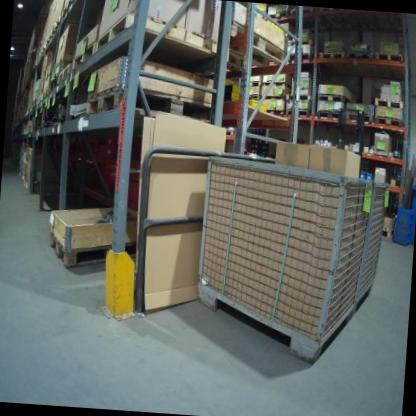pallet: (96, 8, 219, 62), (86, 82, 215, 128), (45, 230, 137, 274), (228, 21, 289, 75), (73, 38, 97, 75), (373, 96, 404, 109), (54, 49, 73, 70), (373, 115, 404, 127), (318, 48, 345, 61), (57, 63, 72, 86), (262, 79, 292, 90), (344, 113, 374, 124), (374, 51, 402, 62), (286, 92, 312, 103), (346, 50, 374, 60), (267, 9, 290, 21), (290, 5, 313, 17), (316, 109, 341, 120), (318, 93, 345, 103), (286, 107, 311, 117), (287, 37, 312, 47), (260, 93, 285, 102), (62, 0, 76, 15), (266, 107, 285, 116), (381, 228, 394, 241), (52, 15, 60, 34), (50, 77, 58, 93), (247, 80, 262, 88), (43, 85, 50, 99)
pallet_truck: (331, 98, 368, 161)
stillage: (191, 151, 393, 372)
